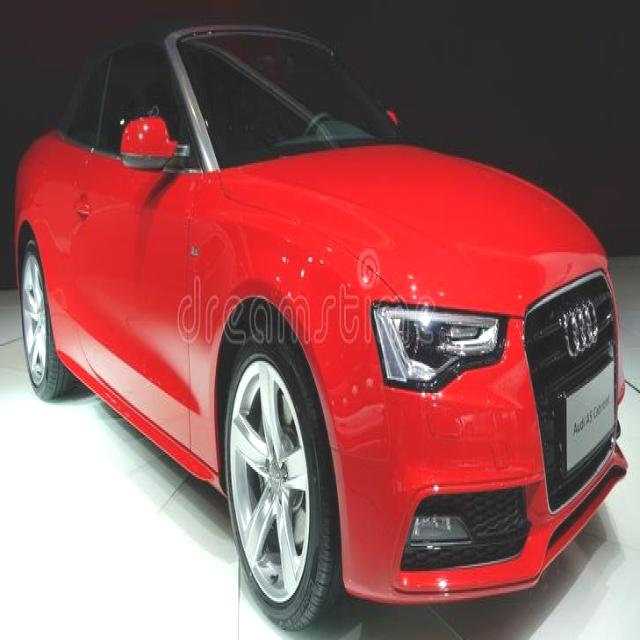red: (12, 1, 626, 625)
